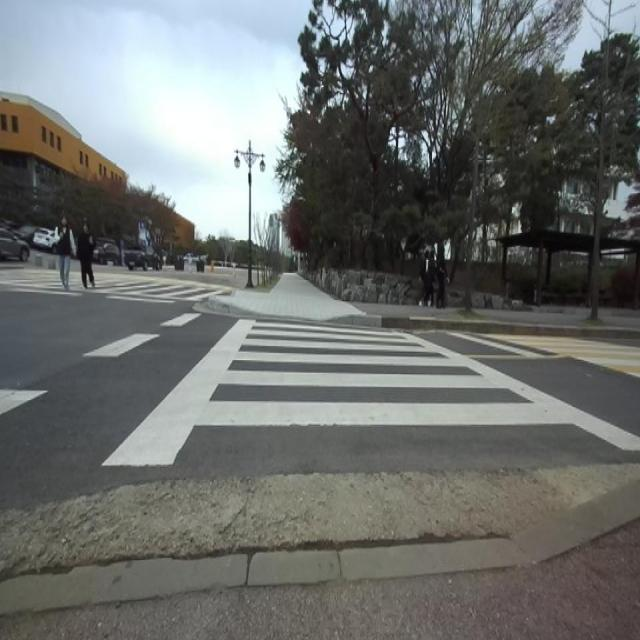sidewalk: (0, 519, 640, 639), (0, 555, 248, 616), (512, 480, 640, 561), (208, 272, 381, 326), (340, 539, 526, 580), (354, 302, 590, 326), (248, 551, 341, 586), (356, 304, 435, 317), (600, 308, 640, 328)
